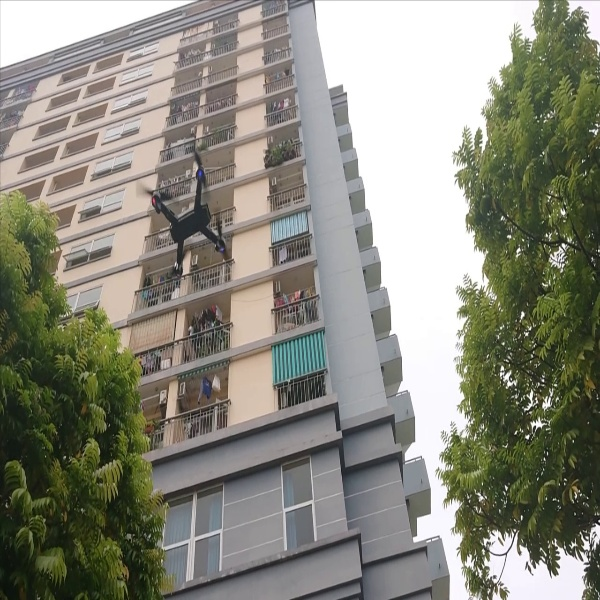drone: (138, 151, 237, 276)
